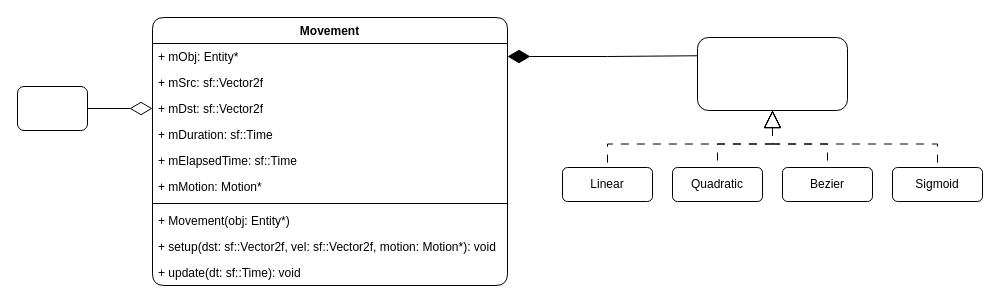
Some shapes in this 1000 by 306 pixel diagram are drawn without their labels. Each missing label, with the centre of its shape:
<<Interface>> Motion + operator()(x: float): float: the point at 772,73
Entity: the point at 52,108
